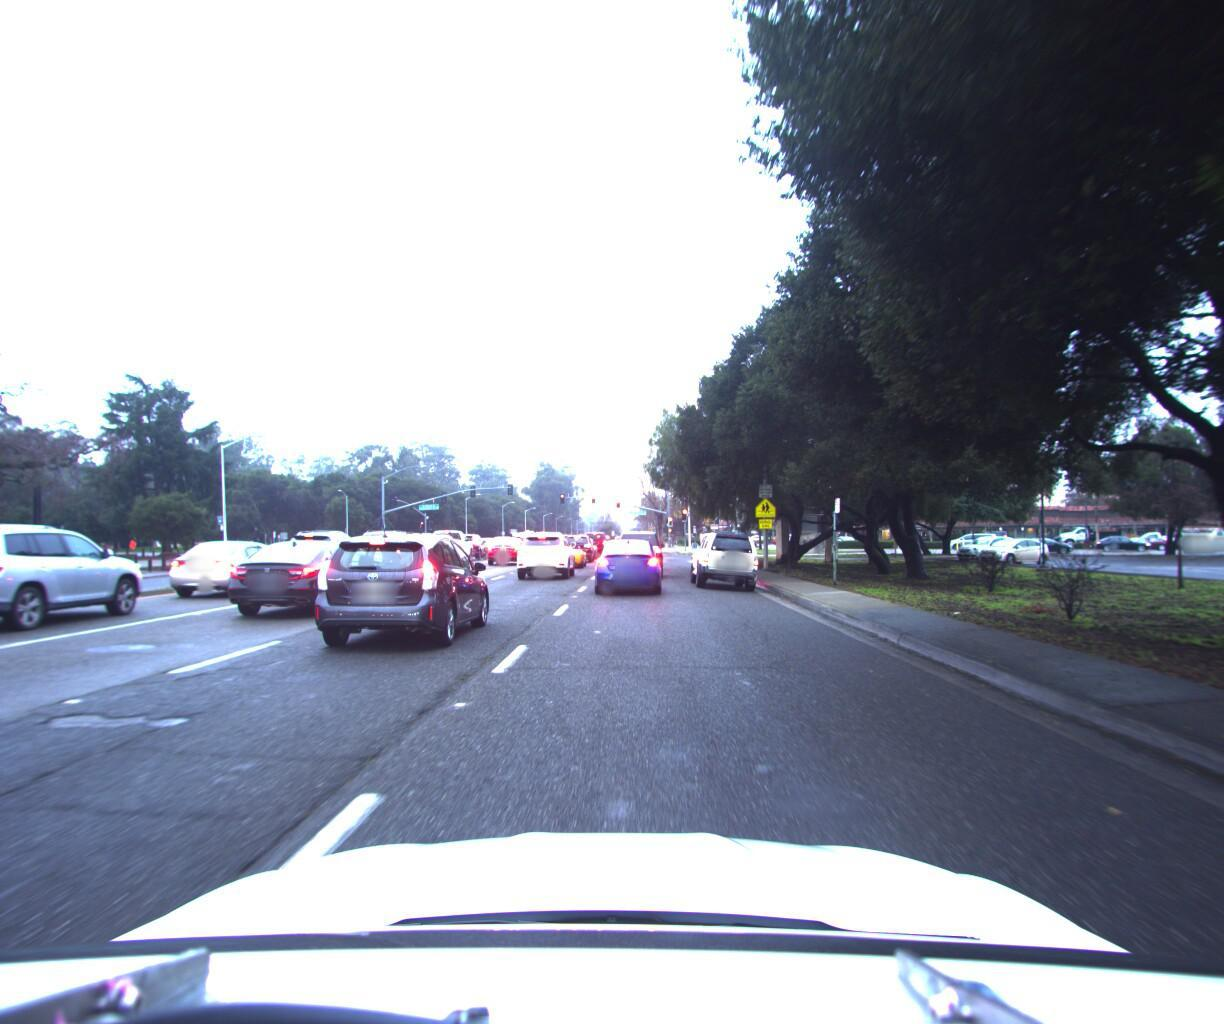car: (303, 527, 497, 652), (0, 516, 158, 643), (222, 533, 391, 620), (166, 535, 307, 599), (281, 525, 379, 583), (392, 524, 473, 580), (688, 524, 759, 585), (595, 533, 664, 595), (353, 525, 427, 573), (516, 527, 582, 577), (416, 523, 481, 566), (613, 524, 663, 574), (484, 533, 532, 563), (550, 533, 594, 564), (0, 542, 17, 610), (450, 529, 489, 557), (563, 529, 597, 558), (474, 533, 510, 555)
